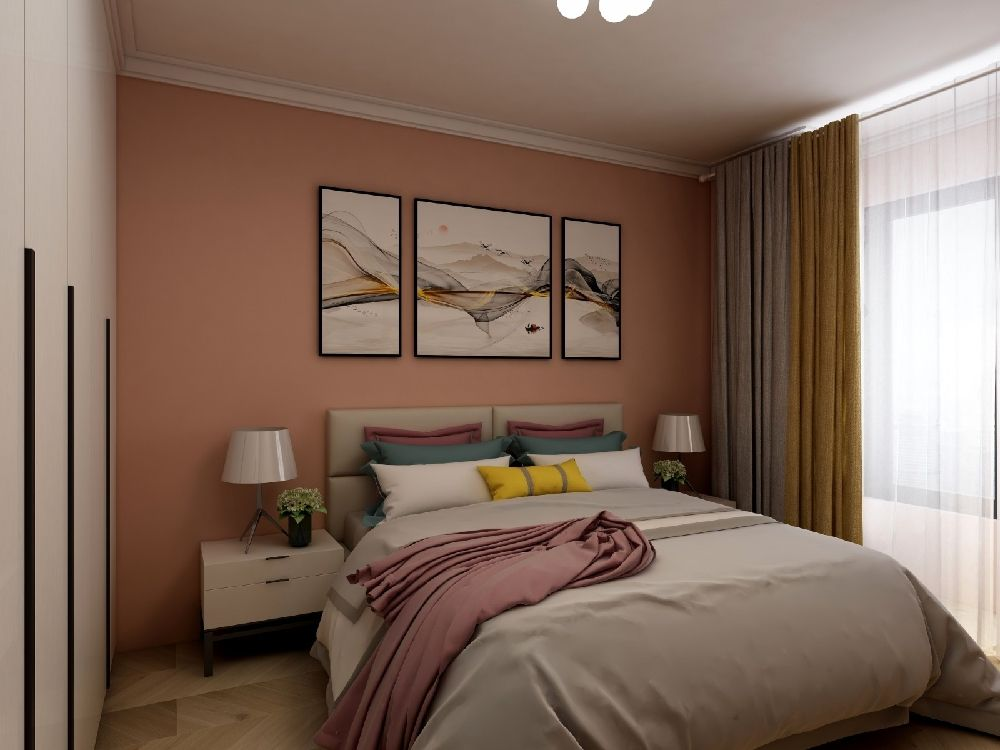床: (320, 490, 970, 750)
枕头: (361, 421, 671, 521)
灯: (217, 422, 294, 554), (654, 412, 712, 492), (555, 0, 666, 25)
